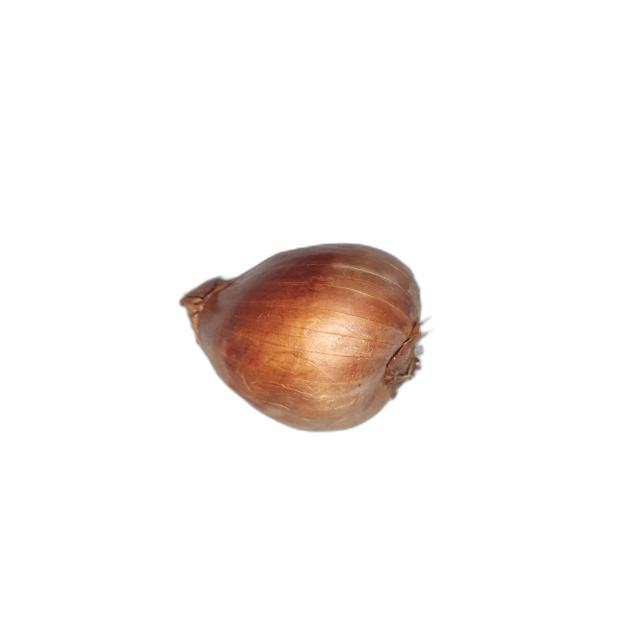onion: (178, 242, 430, 432)
